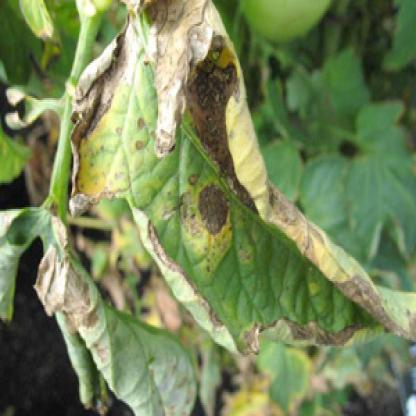potato leaf early blight: (61, 2, 412, 355)
